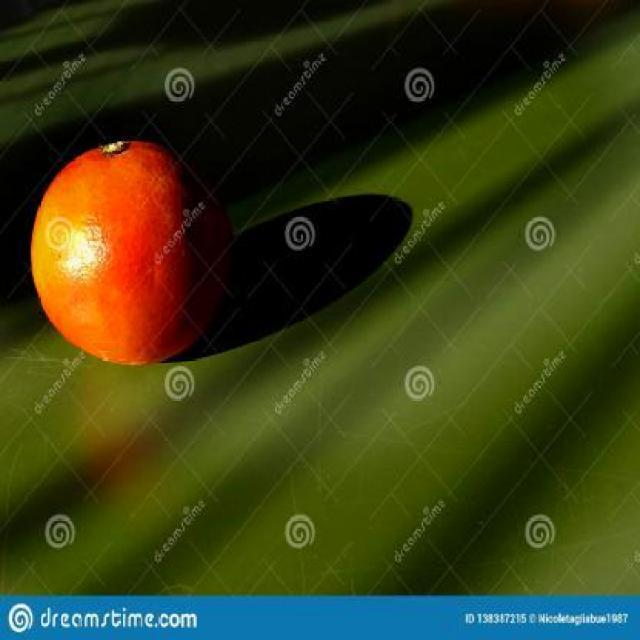Jeruk Sudah Matang: (32, 139, 225, 372)
